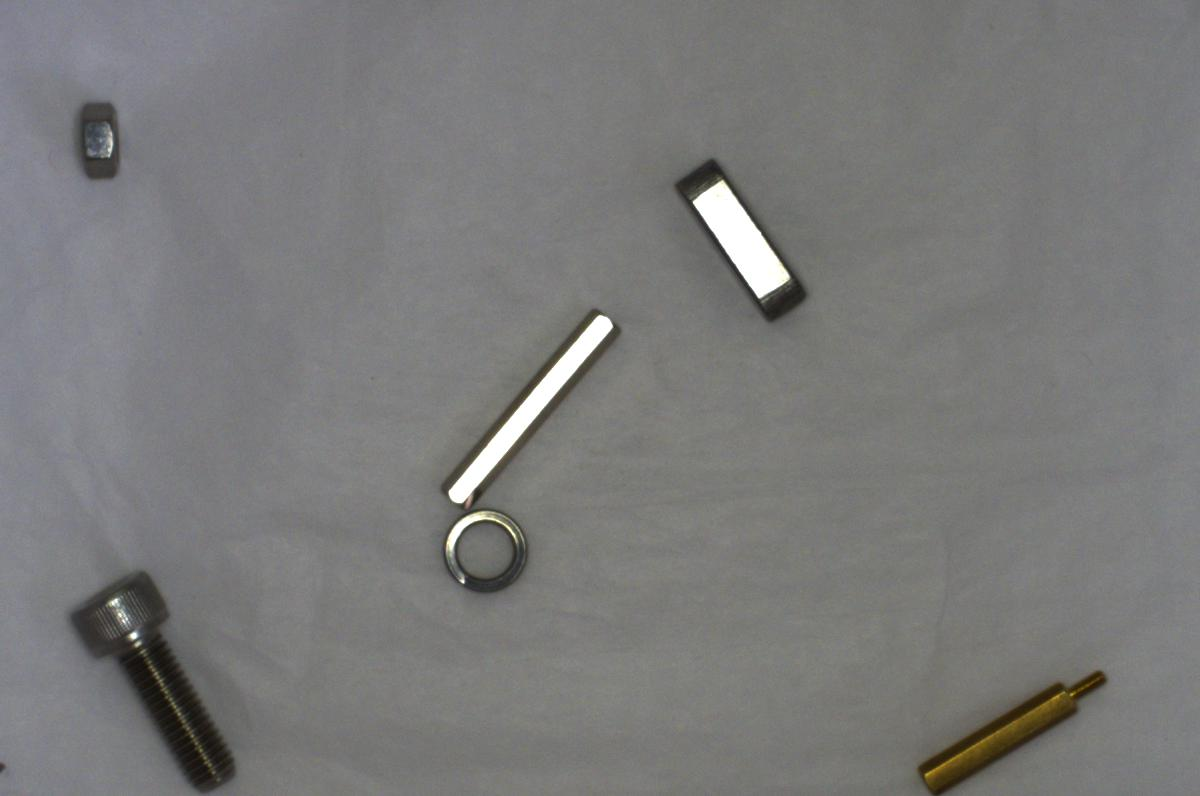Double hexagonal column: (426, 308, 620, 510)
Hexagon nut: (74, 99, 126, 181)
Hexagon pillar: (910, 658, 1115, 795)
Hexagon screw: (61, 560, 242, 790)
Keybar: (672, 152, 811, 326)
Spring washer: (439, 501, 537, 599)
